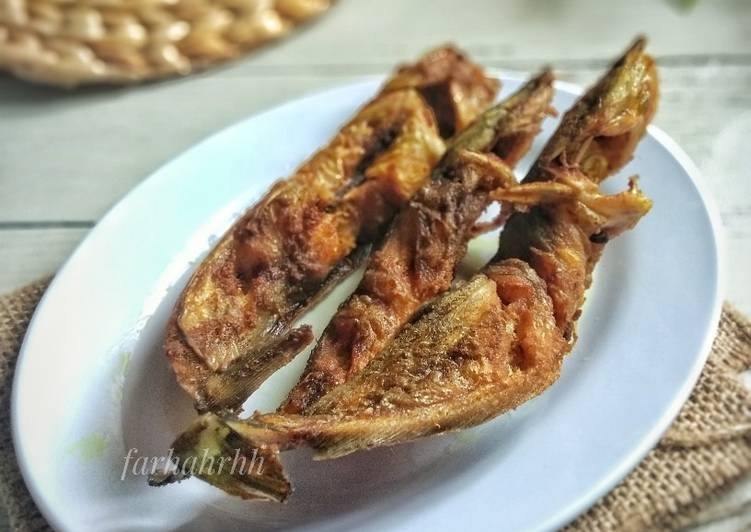pecel_lele: (207, 58, 685, 489)
